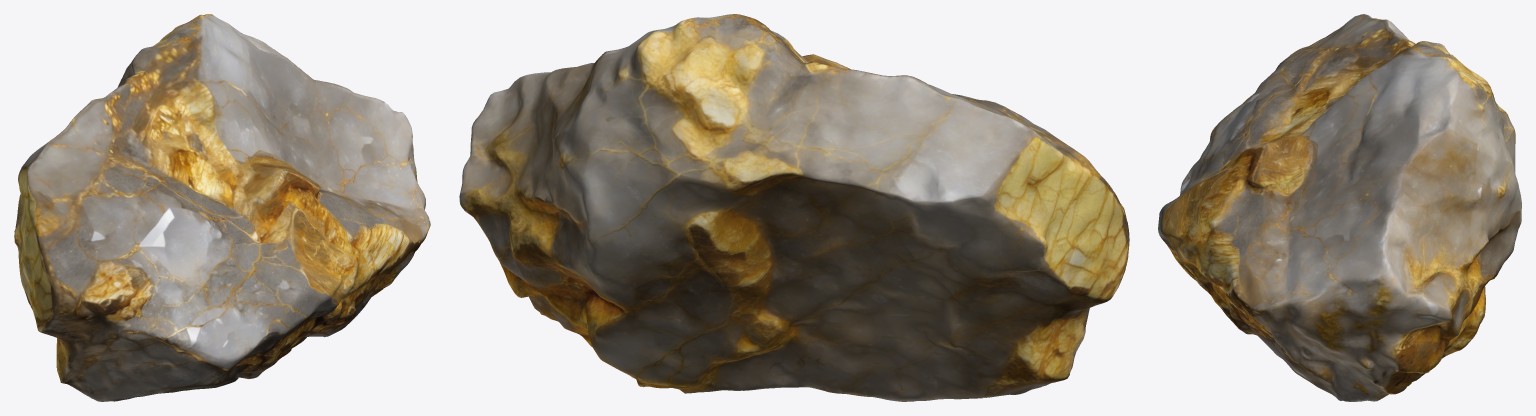
The model's file is AI_GoldOre.fbx.
The picture shows the model from 3 angles, left to right: view 1: azimuth 30°, elevation 25°; view 2: azimuth 150°, elevation 25°; view 3: azimuth 270°, elevation 25°; orthographic projection. The views are drawn at different scales.
Parts seen in each view (by area): view 1: Mesh1.0; view 2: Mesh1.0; view 3: Mesh1.0.
Boxes of the visible parts, left/top/right/bottom form: Mesh1.0: left=14, top=14, right=430, bottom=401; Mesh1.0: left=459, top=14, right=1129, bottom=401; Mesh1.0: left=1158, top=14, right=1521, bottom=401.
Bounding box in the file's own units: 199 × 137 × 146.
Materials: 1 (1 with a texture image).
